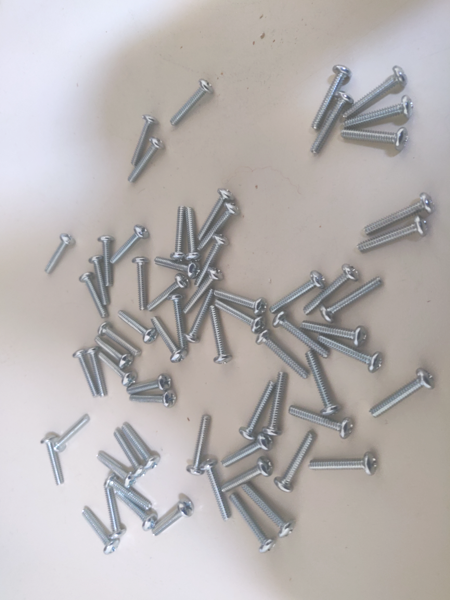longscrew: (303, 263, 363, 317), (321, 273, 387, 321), (224, 494, 277, 552), (344, 69, 407, 117), (374, 373, 434, 423), (273, 431, 318, 496), (268, 270, 328, 317), (359, 195, 432, 232), (356, 220, 428, 257), (287, 400, 355, 439), (309, 92, 352, 153), (241, 484, 291, 536), (307, 66, 349, 127), (273, 315, 327, 359), (169, 77, 214, 127), (317, 338, 383, 372), (197, 204, 241, 255), (195, 189, 239, 240), (256, 334, 308, 377), (236, 379, 273, 439), (305, 352, 339, 415), (199, 457, 231, 521), (189, 237, 228, 289), (221, 458, 273, 494), (345, 99, 414, 125), (222, 436, 276, 469), (124, 422, 160, 471), (342, 127, 411, 152), (79, 512, 120, 553), (128, 138, 166, 181), (151, 318, 185, 366), (182, 271, 221, 312), (113, 495, 156, 532), (216, 302, 264, 335), (306, 453, 381, 474), (44, 227, 76, 276), (115, 427, 145, 479), (185, 290, 215, 342), (264, 373, 286, 442), (95, 453, 137, 489), (189, 413, 213, 475), (130, 113, 155, 171), (154, 501, 192, 539), (96, 350, 135, 387), (93, 333, 132, 370), (98, 321, 137, 358), (105, 479, 153, 509), (71, 346, 98, 399), (84, 345, 111, 398), (111, 226, 148, 264), (117, 307, 156, 343), (147, 278, 188, 312), (209, 301, 230, 366), (301, 322, 372, 341), (102, 483, 124, 541), (217, 290, 268, 314), (86, 253, 110, 304), (55, 417, 88, 453), (80, 275, 107, 319), (43, 440, 63, 487), (131, 390, 182, 408), (126, 376, 177, 394), (151, 257, 199, 275), (99, 233, 114, 289), (173, 293, 187, 352), (185, 202, 198, 262), (173, 202, 185, 262), (135, 251, 146, 315)
